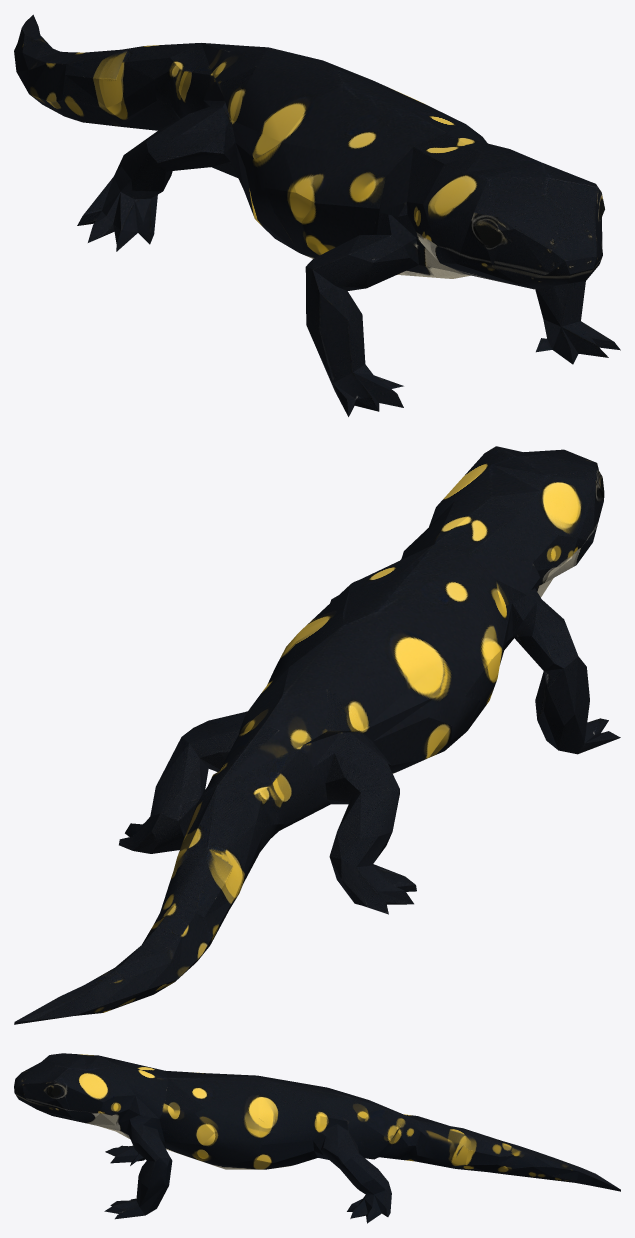
Rendered from salamander.glb.
3 renders of one model, top to bottom at view 1: azimuth 30°, elevation 25°; view 2: azimuth 150°, elevation 25°; view 3: azimuth 270°, elevation 25°, orthographic. The views are drawn at different scales.
Bounding box in the file's own units: 0.5894 × 0.423 × 1.89.
1 material, 1 textured.
